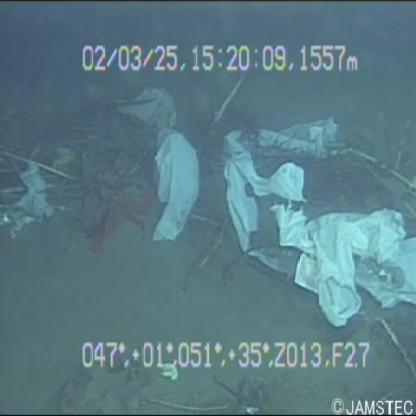Rác: (215, 104, 416, 326), (112, 91, 207, 260)
